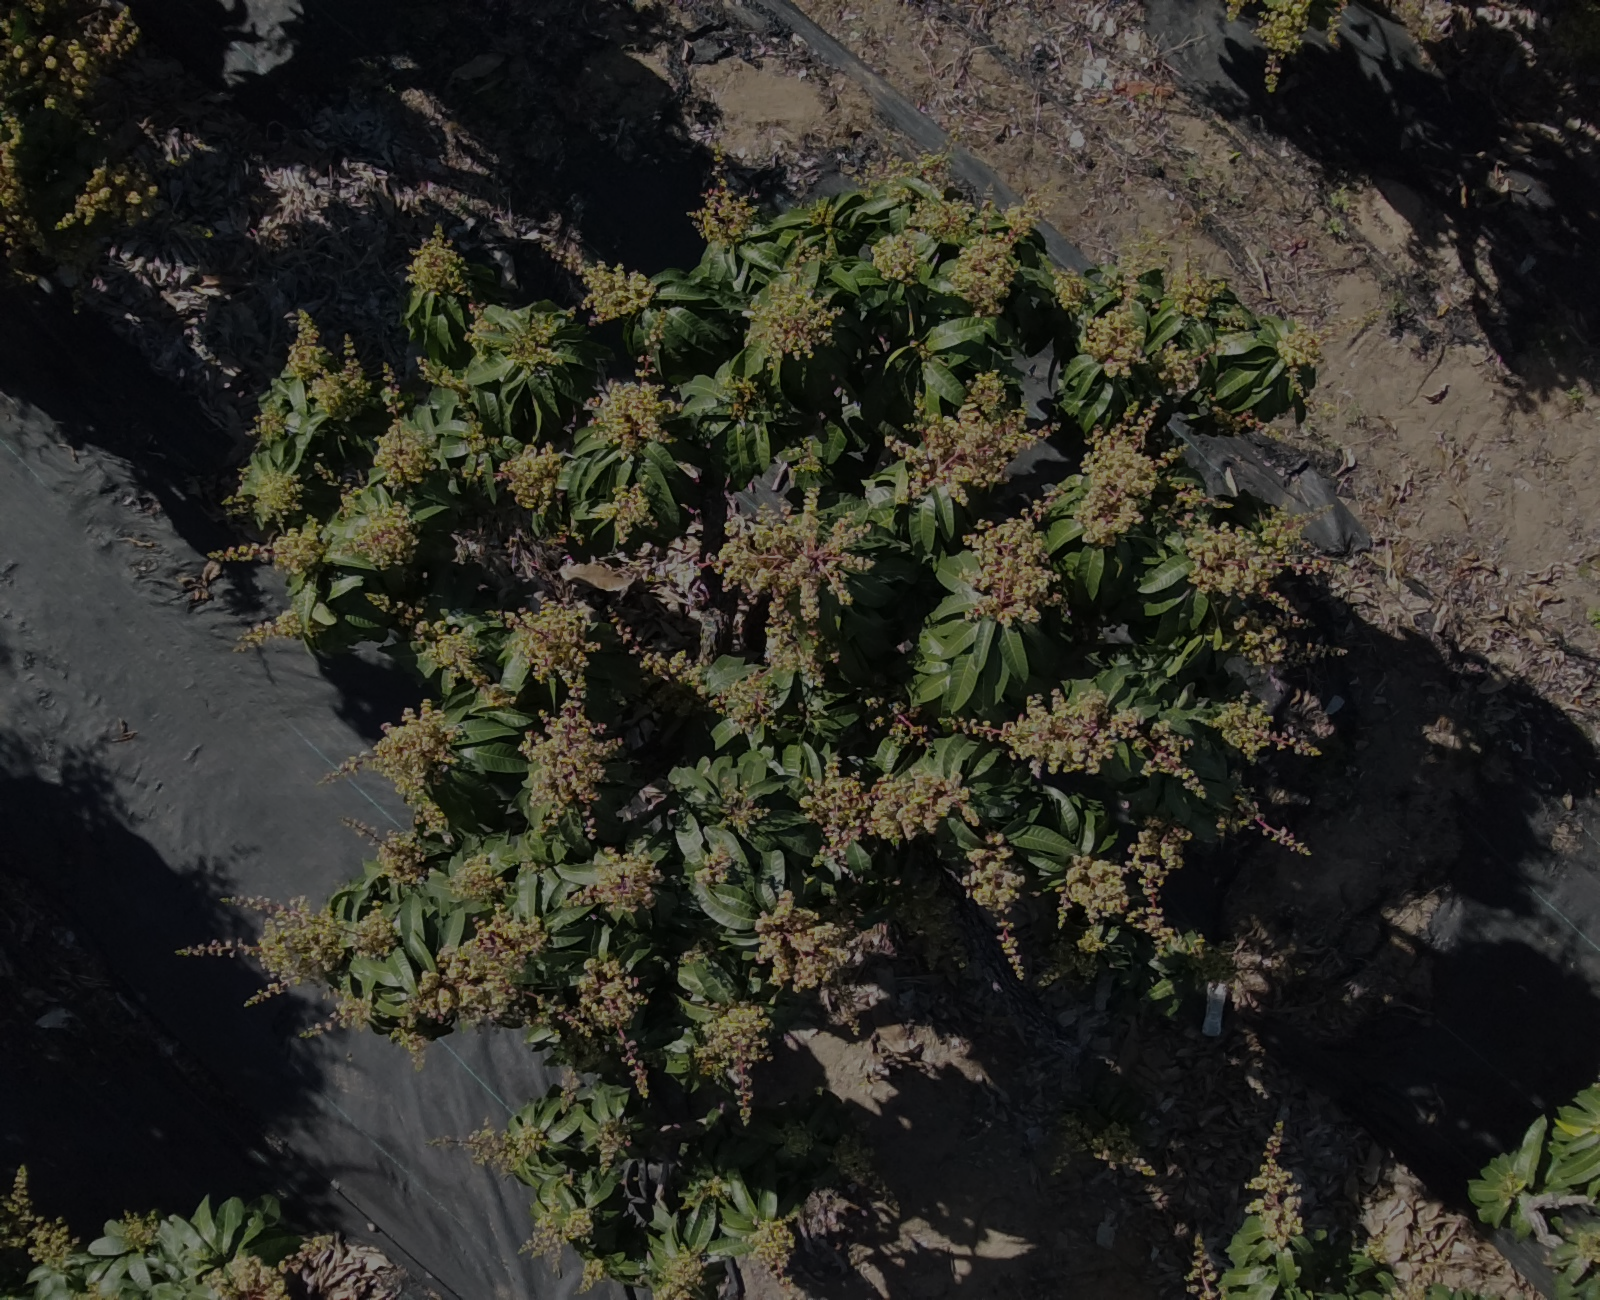flowers: (716, 489, 872, 682), (957, 688, 1202, 797), (869, 157, 1035, 314), (393, 907, 547, 1049), (1182, 511, 1321, 666), (888, 371, 1047, 504), (176, 895, 397, 991), (1052, 820, 1205, 956), (797, 760, 976, 853), (0, 0, 137, 117), (1073, 407, 1178, 545), (521, 700, 621, 834), (561, 956, 647, 1096), (638, 650, 776, 734), (369, 700, 456, 824), (540, 231, 655, 322), (965, 513, 1060, 623), (746, 251, 836, 362), (283, 310, 371, 419), (694, 1002, 771, 1122), (755, 891, 846, 991), (503, 600, 598, 691), (413, 619, 513, 706), (592, 361, 677, 452), (1225, 0, 1309, 92), (1210, 691, 1321, 760), (0, 1165, 77, 1263), (374, 363, 434, 484), (1246, 1120, 1301, 1247), (56, 162, 157, 229), (1089, 1122, 1167, 1208), (470, 306, 567, 374), (573, 844, 661, 915), (219, 519, 325, 574), (341, 817, 426, 883), (0, 118, 40, 249), (963, 833, 1023, 913), (689, 176, 758, 244), (350, 501, 417, 569), (1081, 305, 1144, 375), (407, 226, 470, 294), (464, 1124, 548, 1174), (226, 468, 301, 524), (500, 444, 561, 511), (206, 1254, 291, 1297), (519, 1207, 592, 1256), (1276, 320, 1321, 397), (89, 1211, 162, 1254), (1156, 342, 1214, 394), (651, 1246, 704, 1297), (448, 853, 503, 902), (748, 1218, 793, 1276), (417, 356, 470, 403), (872, 233, 919, 284), (612, 483, 653, 541), (1183, 1234, 1219, 1297), (720, 787, 767, 833), (280, 1234, 333, 1272), (678, 1173, 730, 1207), (594, 1118, 630, 1167), (1052, 269, 1088, 314), (694, 844, 732, 883), (253, 395, 285, 443), (333, 994, 371, 1029), (785, 436, 823, 472), (728, 377, 755, 422), (780, 1124, 813, 1155), (576, 1258, 605, 1292), (1573, 1227, 1597, 1263), (646, 310, 665, 345), (1225, 0, 1252, 19), (74, 1285, 115, 1297), (519, 858, 547, 872)
